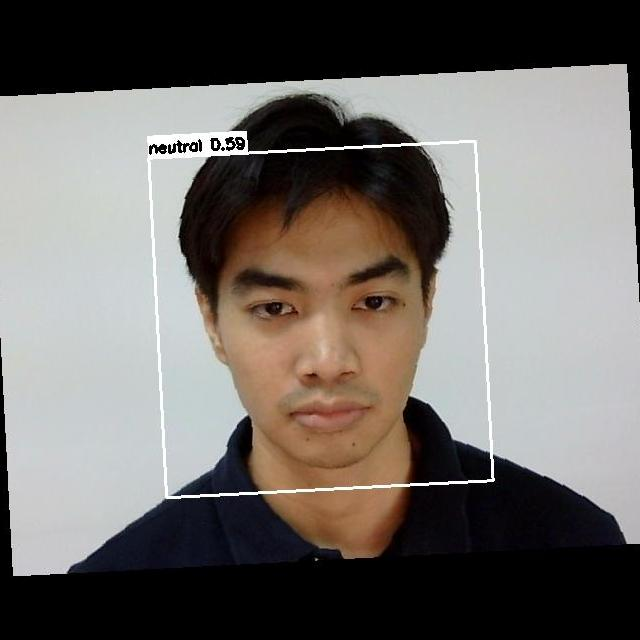Natural: (227, 254, 422, 441)
